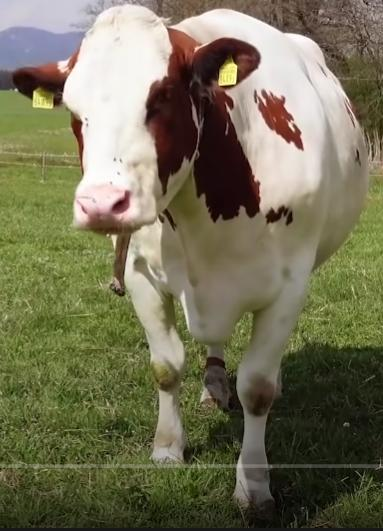cow: (13, 8, 369, 518)
